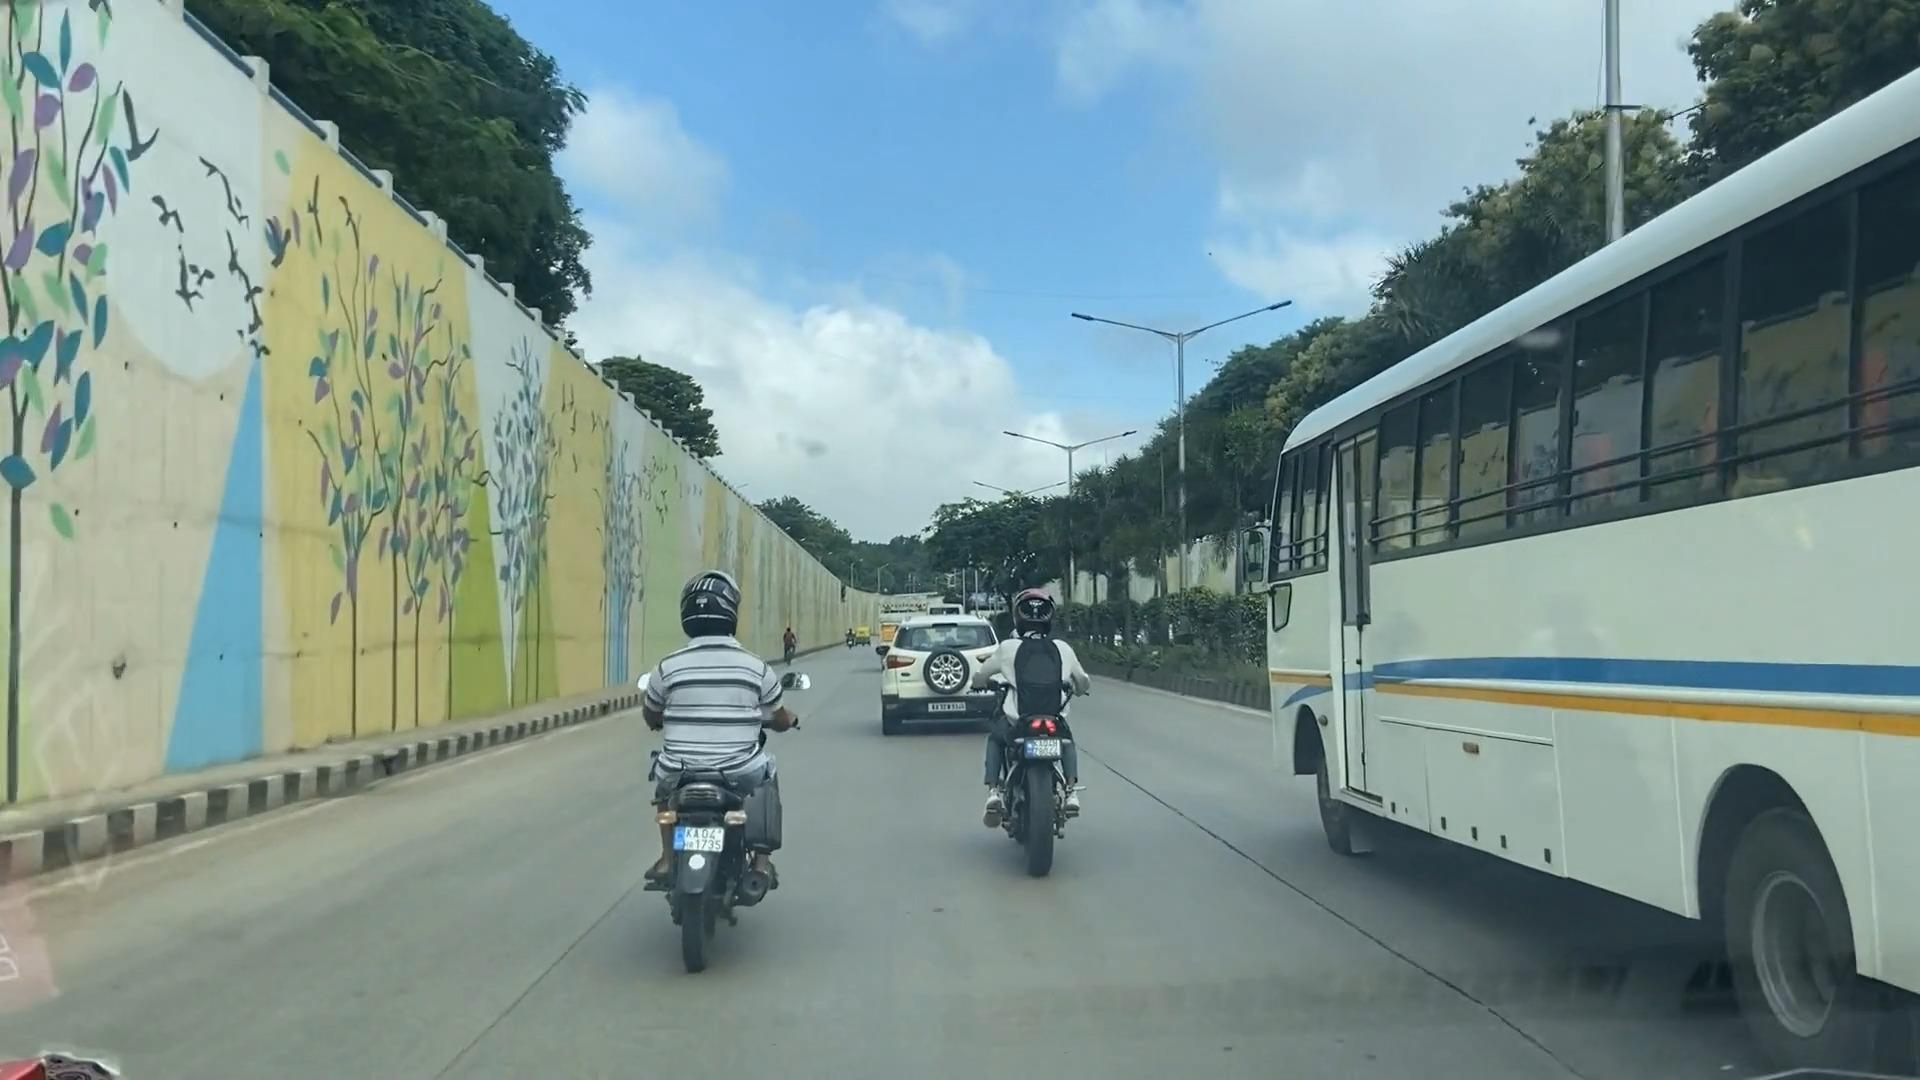HMV: (1271, 121, 1920, 936)
LMV: (654, 599, 781, 920), (969, 599, 1089, 895), (872, 622, 985, 742)
